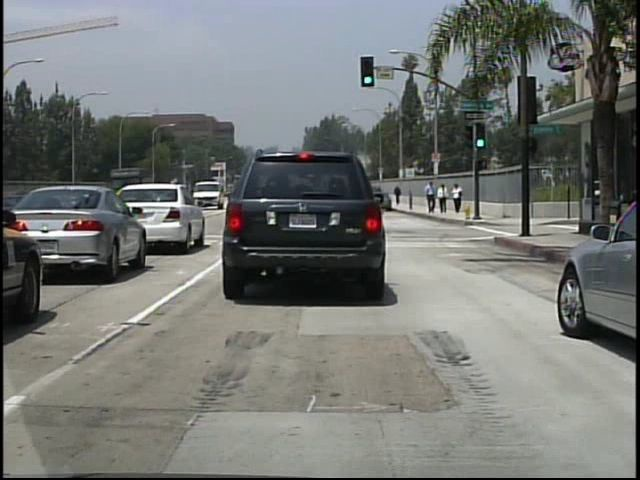person: (426, 180, 439, 216), (452, 183, 465, 216), (439, 183, 451, 215), (393, 185, 403, 207)
